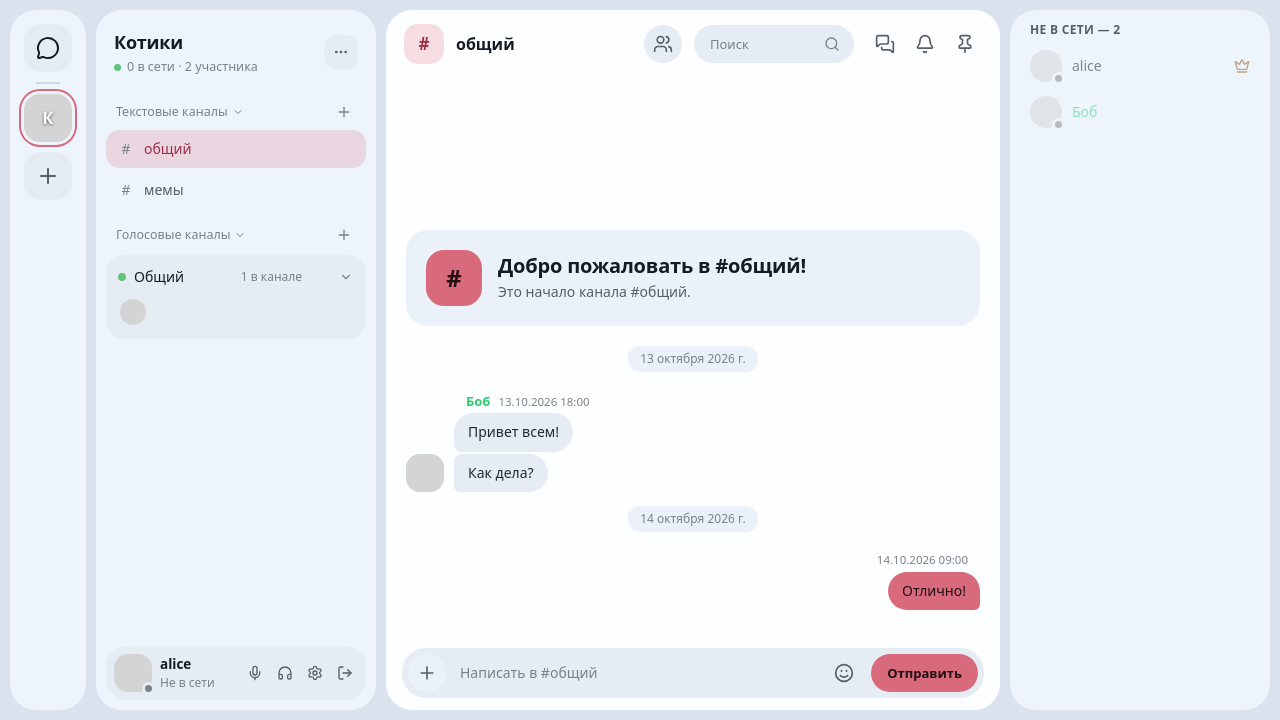
Test: voice channel card › unfolds into a list of who is in it
Click the button named "Показать участников Общий" at (346, 277), box [334, 265, 358, 289]
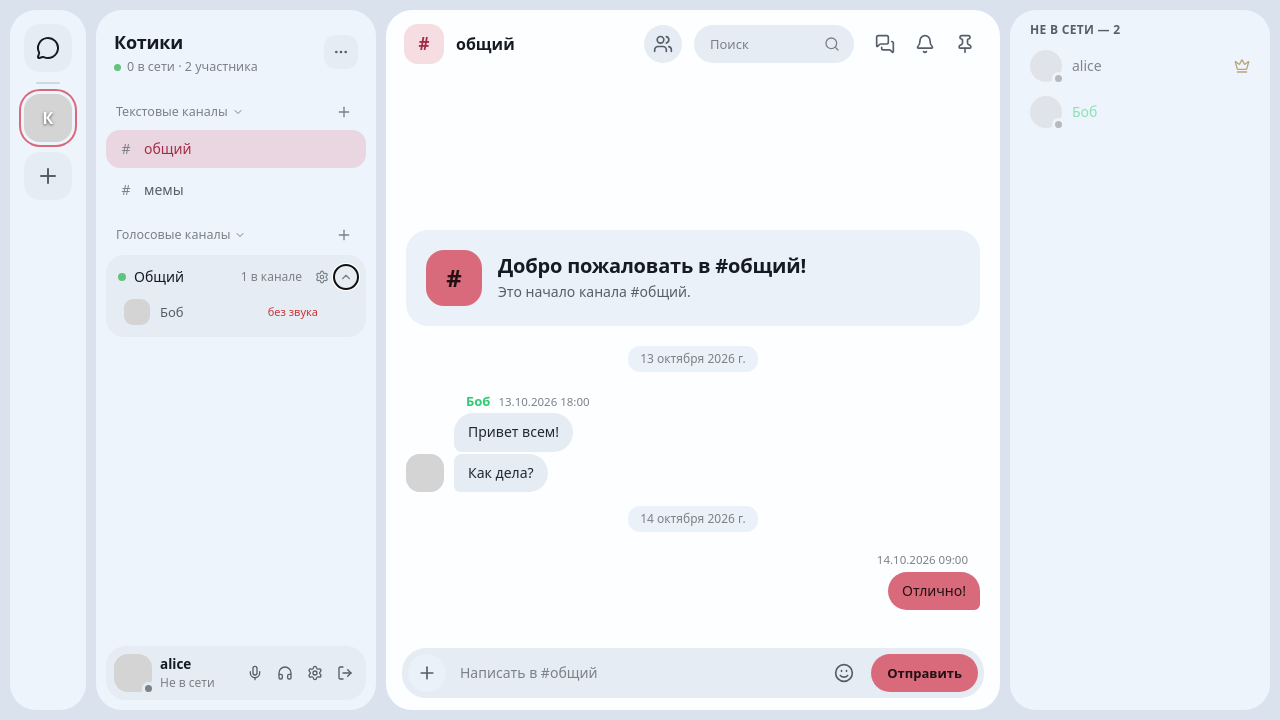
Expected: the text "без звука" is shown, [268, 304, 318, 320]
Click the button named "Свернуть участников Общий" at (346, 277), box [334, 265, 358, 289]
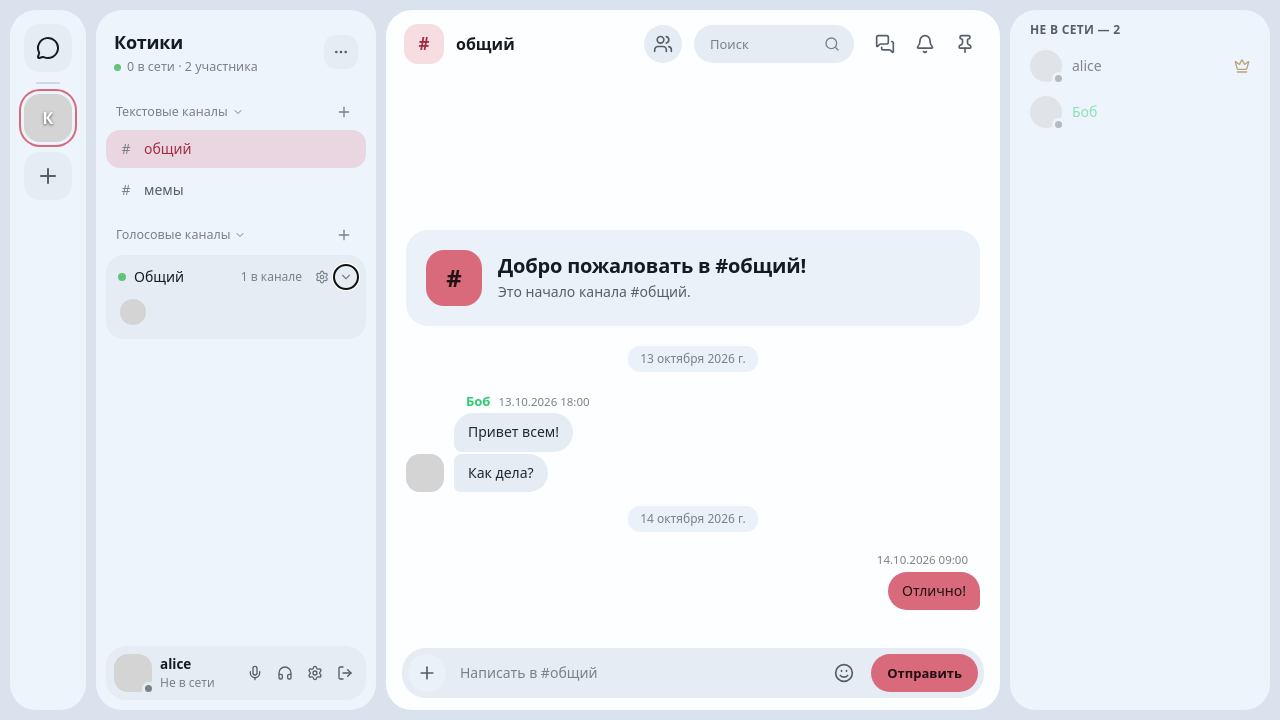
Expected: the text "без звука" is gone
